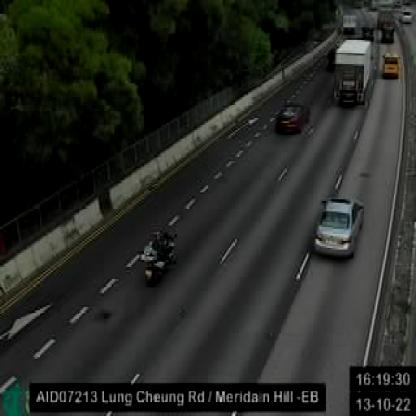Car: (312, 197, 366, 260), (275, 100, 310, 133), (382, 52, 400, 80)
Truck: (334, 38, 373, 108)
